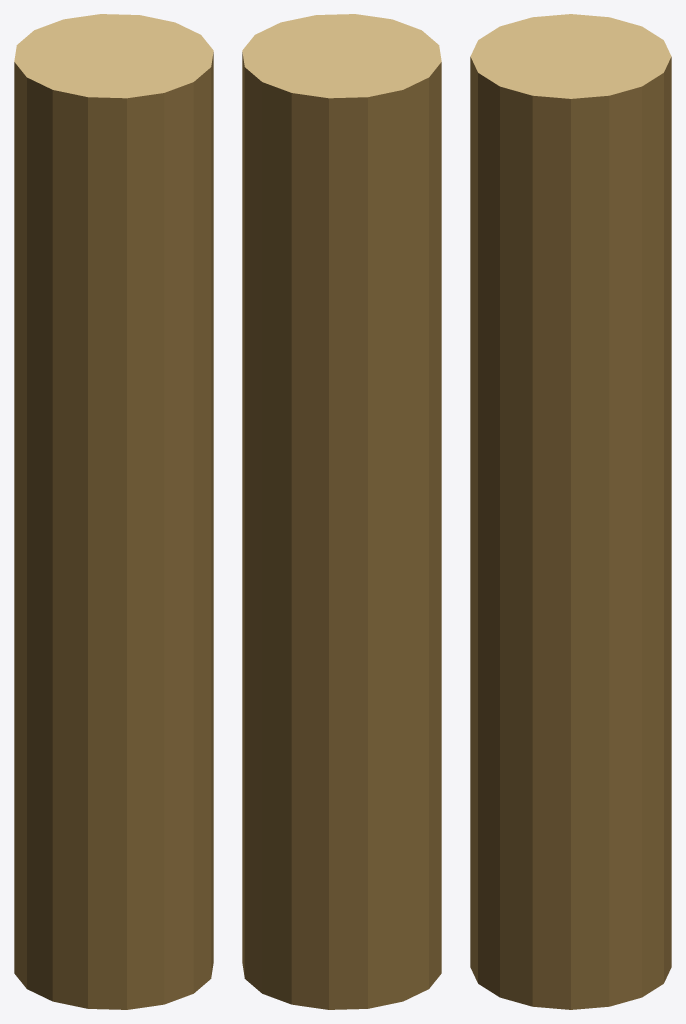
File: wood_item.glb
3 views of the same model, side by side, from view 1: azimuth 30°, elevation 25°; view 2: azimuth 150°, elevation 25°; view 3: azimuth 270°, elevation 25° (orthographic).
Visible parts, largest first — view 1: Cylinder; view 2: Cylinder; view 3: Cylinder.
Part boxes in pixels (box(x1,y1,x2,y2)): Cylinder: box(14, 14, 213, 1009); Cylinder: box(242, 14, 441, 1009); Cylinder: box(470, 14, 671, 1009).
Bounding box in the file's own units: 0.3 × 1.5 × 0.3.
